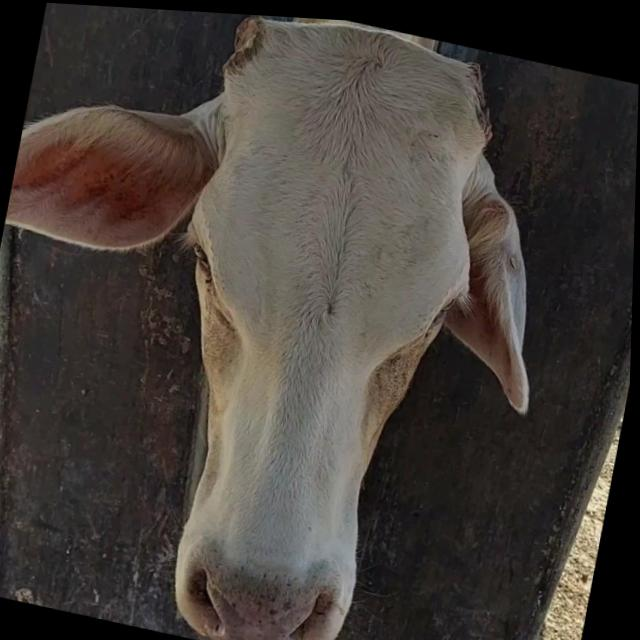cowFace: (117, 6, 500, 640)
